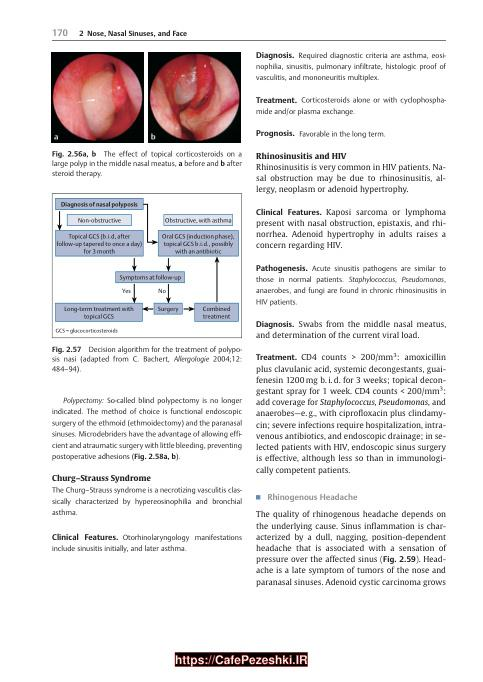caption: (51, 149, 243, 179), (51, 345, 242, 374), (150, 132, 156, 141), (53, 134, 59, 140)
header: (77, 29, 188, 38)
image: (51, 192, 242, 339), (147, 51, 242, 144), (50, 51, 145, 143)
sub-section-heading: (51, 473, 152, 483), (267, 492, 358, 503), (255, 151, 348, 160), (51, 532, 119, 541), (255, 207, 323, 216), (255, 264, 308, 274), (62, 396, 104, 406), (256, 51, 295, 61), (255, 129, 294, 139), (255, 320, 295, 329), (255, 96, 298, 104), (255, 353, 298, 361)
text: (255, 352, 447, 476), (254, 510, 447, 588), (50, 396, 243, 462), (254, 150, 447, 195), (254, 207, 447, 251), (255, 263, 447, 307), (255, 50, 447, 83), (51, 486, 243, 516), (51, 532, 244, 554), (254, 319, 446, 339), (255, 96, 446, 116), (255, 128, 386, 140)
